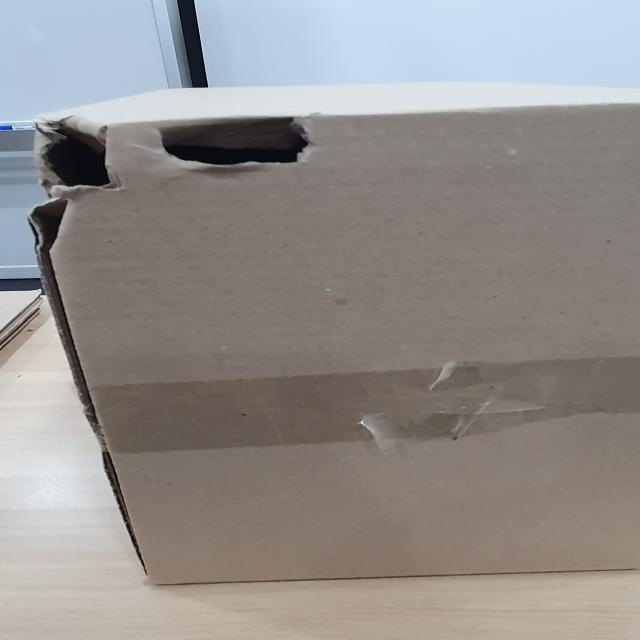hole: (143, 108, 323, 174), (38, 117, 130, 195)
